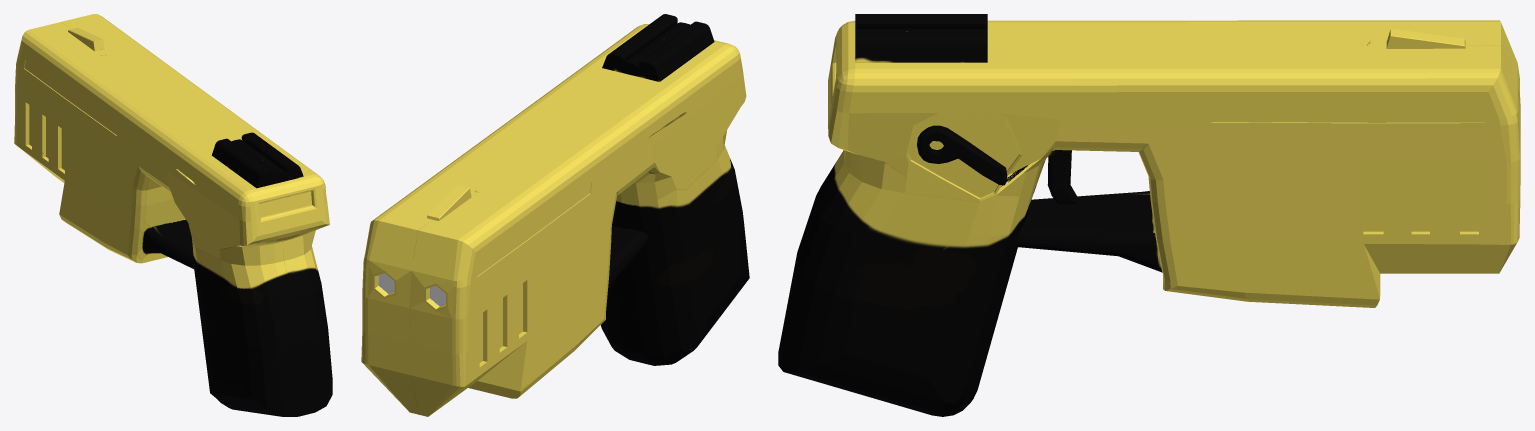
File: Stungun test 1.fbx
3 views of the same model, side by side, from view 1: azimuth 30°, elevation 25°; view 2: azimuth 150°, elevation 25°; view 3: azimuth 270°, elevation 25° (orthographic). The views are drawn at different scales.
Visible parts, largest first — view 1: Cube; view 2: Cube; view 3: Cube.
Part boxes in pixels (box(x1,y1,x2,y2)): Cube: box(14, 14, 332, 416); Cube: box(361, 14, 749, 416); Cube: box(778, 14, 1520, 416).
Bounding box in the file's own units: 129 × 339 × 600.
1 material, 1 textured.
